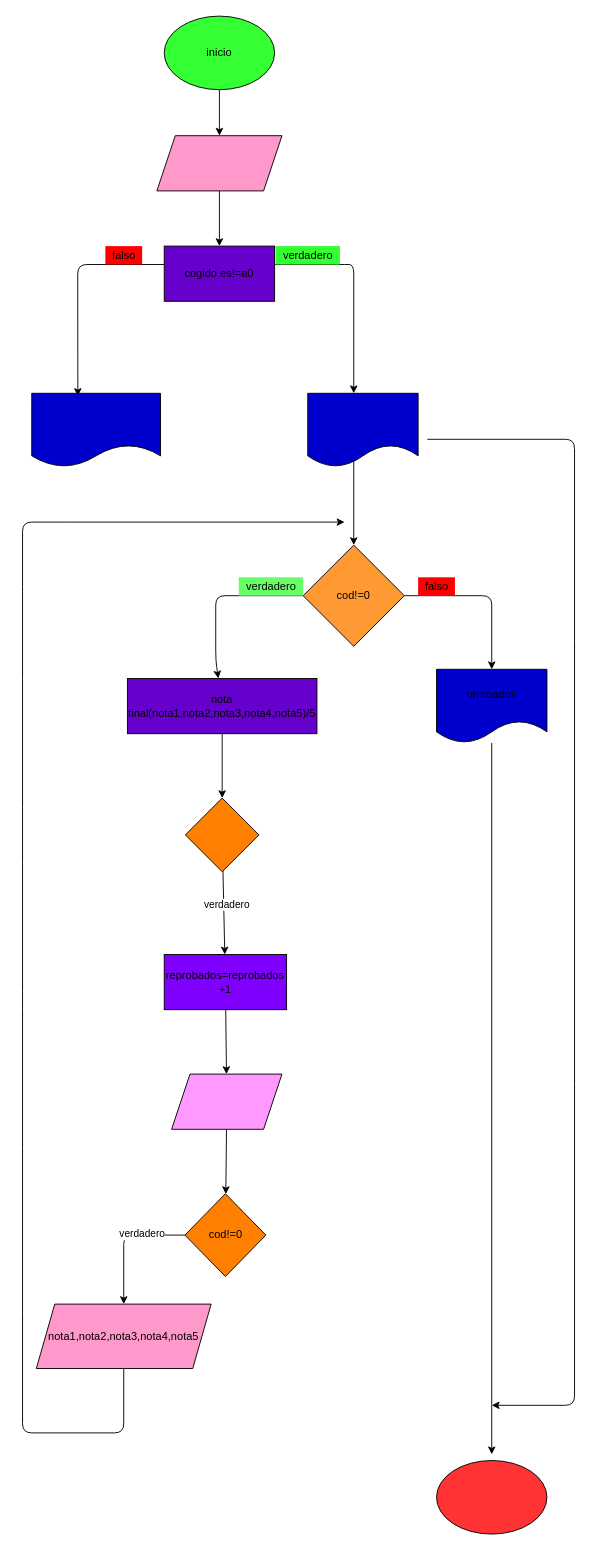
Image size: 598x1550. Some labels were removed from this diagram. Each missing label, with the box of its shape:
cod: (171, 1073, 282, 1129)
cod=0: (156, 135, 282, 191)
fin: (436, 1460, 547, 1534)
fin de los datos de entrada: (307, 392, 418, 467)
nota1,nota2,nota3,nota,4 nota5: (31, 392, 161, 467)
notafinal<3: (184, 797, 259, 872)
